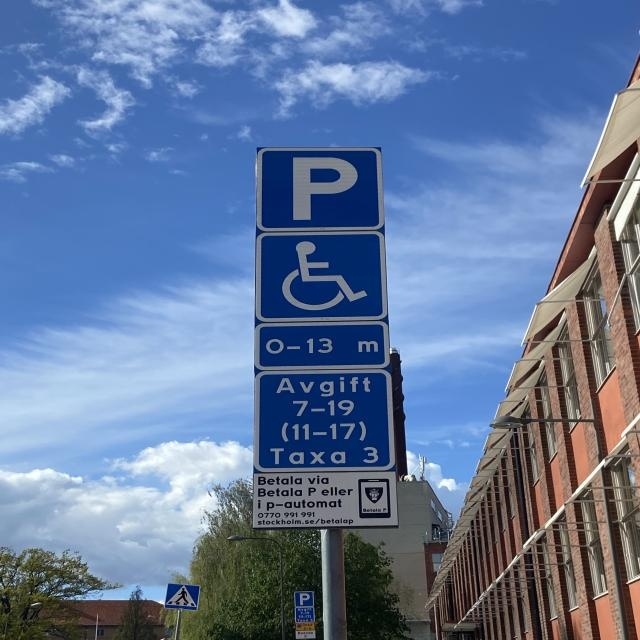P-skylt: (257, 147, 384, 229)
